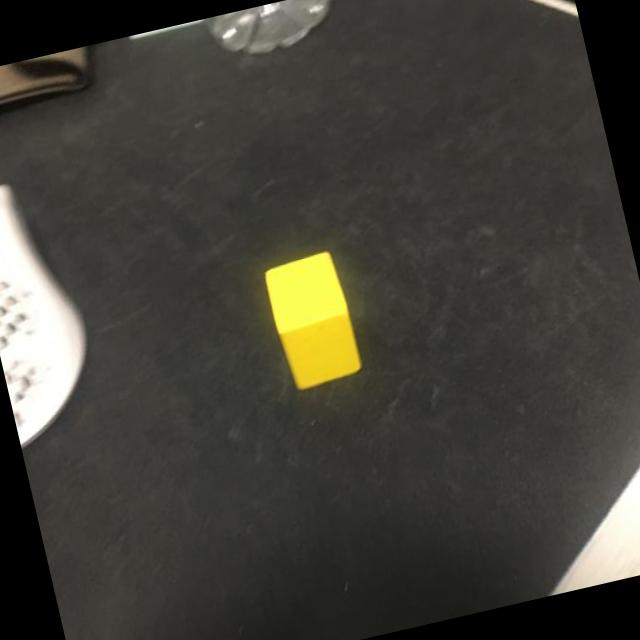yellow: (262, 250, 365, 390)
